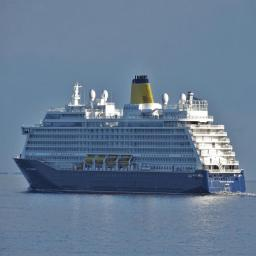cruises: (11, 74, 248, 199)
